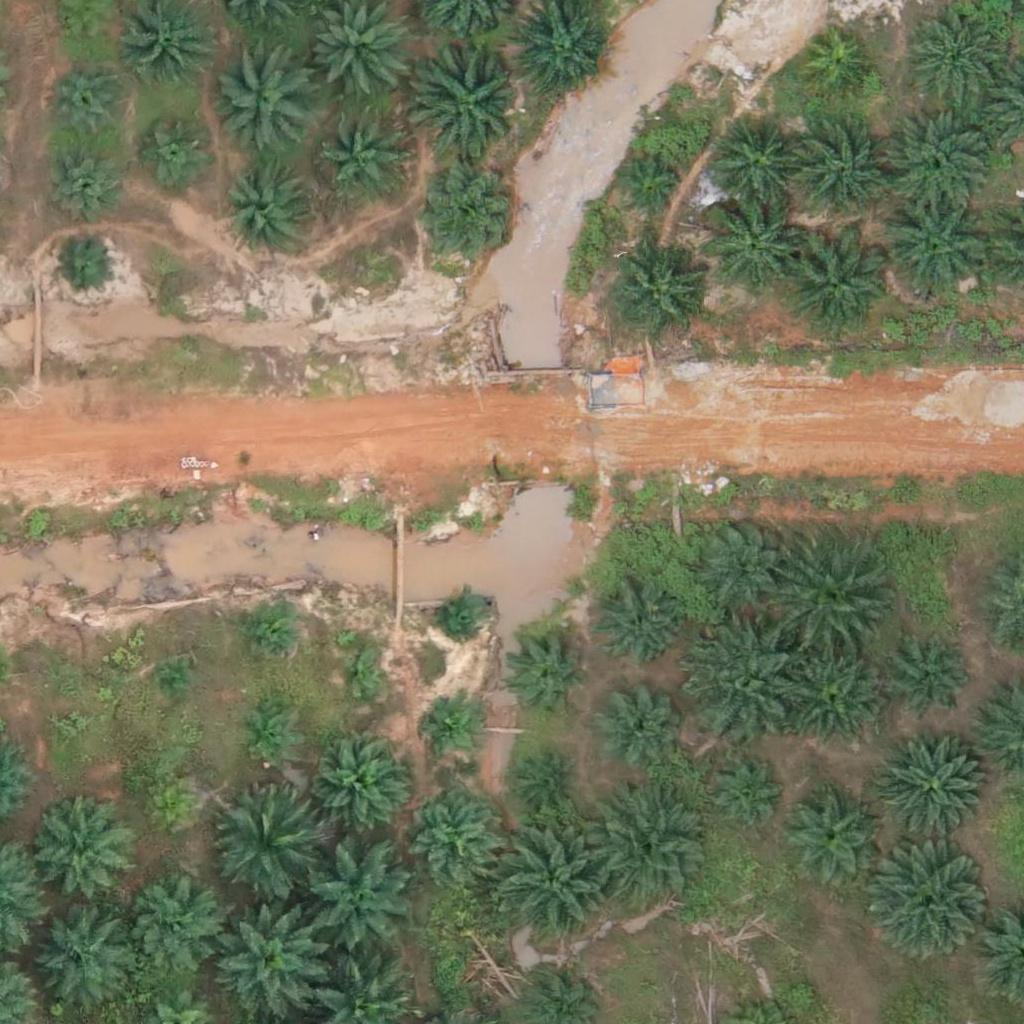Kelapa_Sawit: (868, 847, 981, 961), (594, 796, 707, 910), (499, 819, 612, 932), (298, 843, 411, 956), (207, 783, 320, 896), (881, 103, 994, 216), (878, 191, 991, 304), (780, 230, 893, 343), (879, 733, 991, 846), (776, 546, 888, 659), (686, 625, 798, 738), (413, 43, 525, 156), (782, 644, 882, 745), (688, 511, 788, 612), (35, 806, 135, 907), (791, 125, 891, 226), (706, 116, 806, 217), (608, 242, 708, 343), (416, 170, 516, 271), (783, 786, 883, 886), (314, 735, 414, 835), (129, 876, 229, 976), (36, 913, 136, 1013), (906, 7, 1006, 107), (701, 196, 801, 296), (215, 49, 315, 149), (37, 140, 125, 228), (594, 582, 681, 671), (888, 635, 975, 723), (701, 752, 788, 840), (594, 681, 681, 769), (410, 785, 497, 873), (504, 629, 591, 717), (322, 115, 409, 203), (224, 164, 311, 252), (47, 59, 134, 147), (138, 112, 213, 187), (799, 30, 874, 105), (614, 154, 689, 229), (54, 234, 116, 297), (426, 698, 476, 749), (433, 588, 483, 638), (524, 757, 574, 807), (336, 651, 386, 701), (244, 605, 294, 655), (239, 708, 289, 758), (153, 666, 191, 704), (143, 785, 180, 822), (56, 713, 81, 739)
